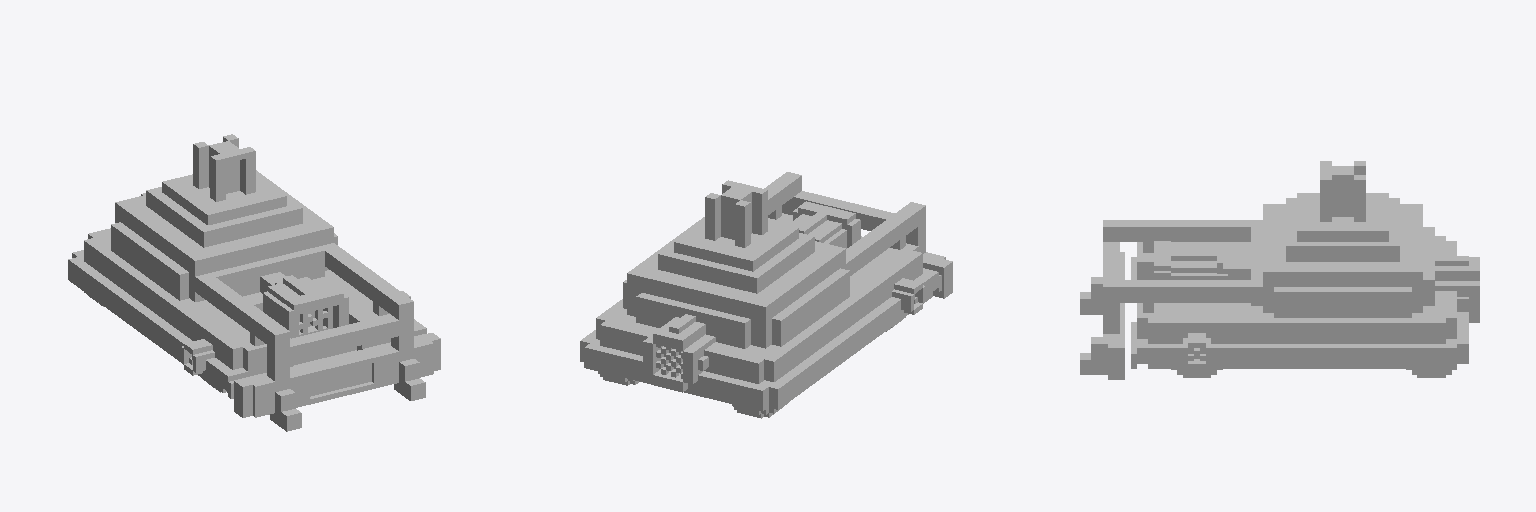
The model's file is body.obj.
The picture shows the model from 3 angles: view 1: azimuth 30°, elevation 25°; view 2: azimuth 150°, elevation 25°; view 3: azimuth 270°, elevation 25°; orthographic projection.
Parts seen in each view (by area): view 1: object 1; view 2: object 1; view 3: object 1.
Part boxes in pixels (left/top/right/bottom): object 1: left=68, top=134, right=440, bottom=431; object 1: left=580, top=172, right=952, bottom=418; object 1: left=1080, top=161, right=1479, bottom=379.
Bounding box in the file's own units: 4.4 × 3.3 × 7.